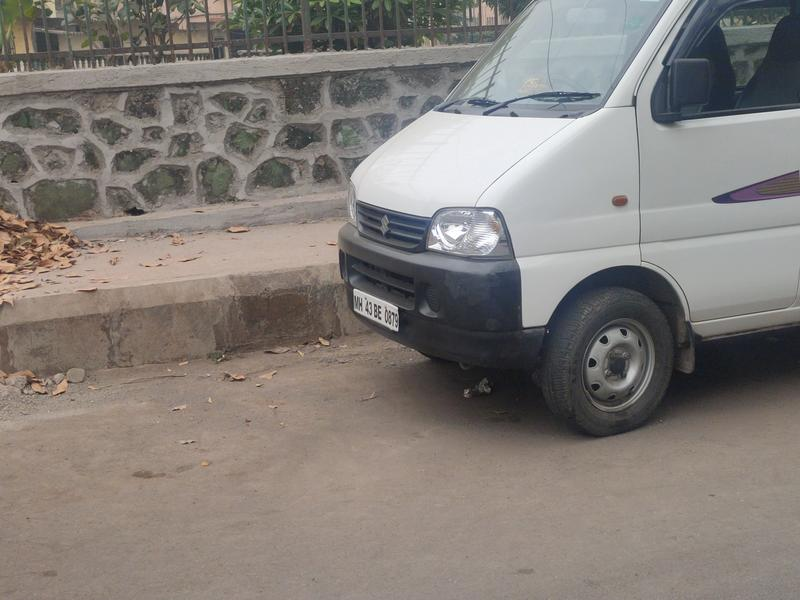license_plate: (345, 282, 409, 333)
